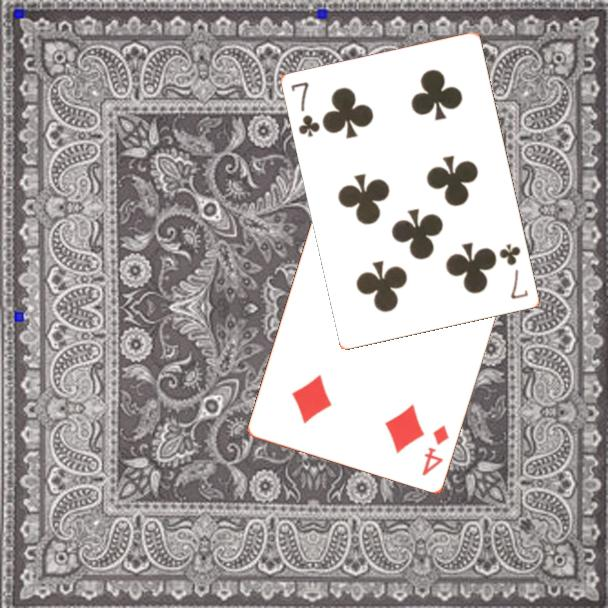c07: (496, 240, 531, 302), (288, 79, 323, 140)
d04: (419, 422, 452, 479)
